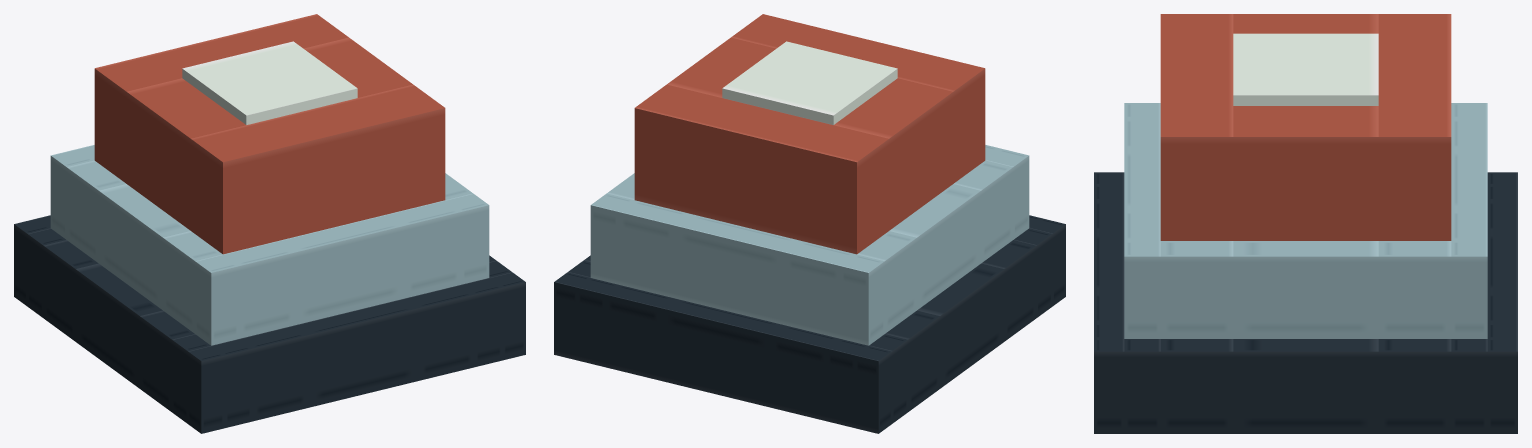
File: sc_pickup_reset_button.obj
3 renders of one model, left to right at view 1: azimuth 30°, elevation 25°; view 2: azimuth 150°, elevation 25°; view 3: azimuth 270°, elevation 25°, orthographic. The views are drawn at different scales.
Size of the model in its own units: 7 by 5.1 by 7.
Materials: 1 (1 with a texture image).
